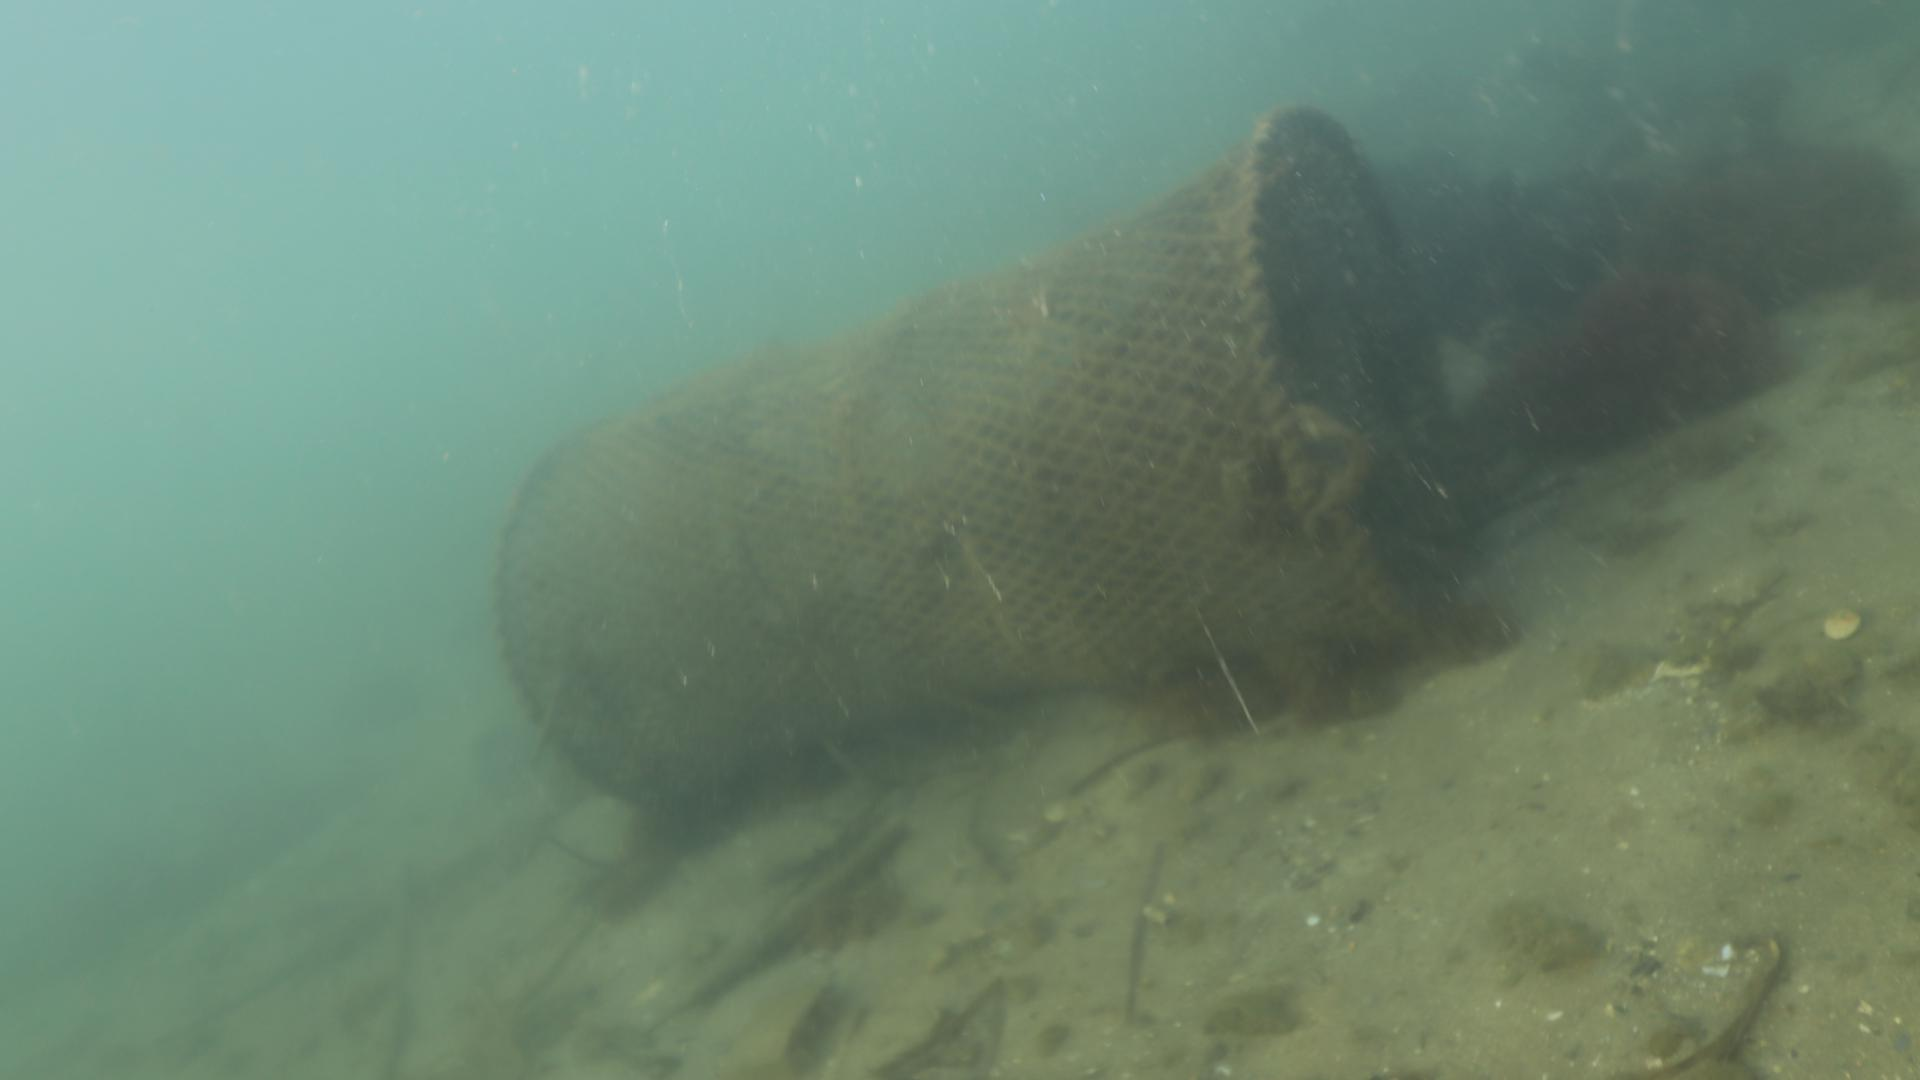spring fish trap: (488, 98, 1486, 807)
